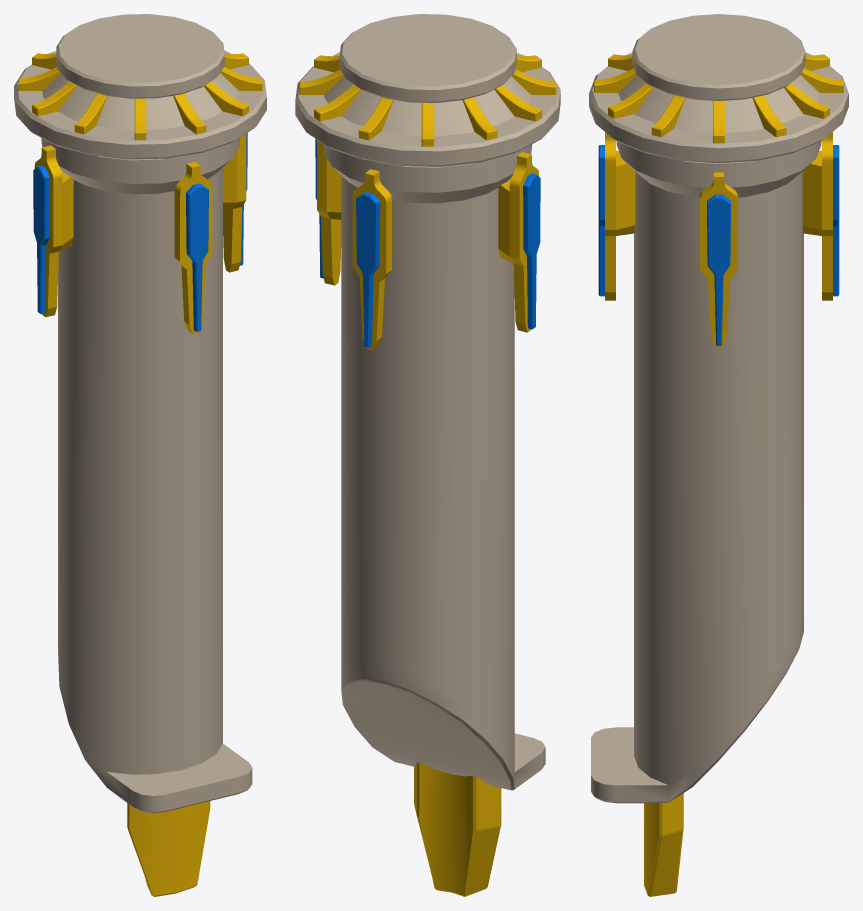
The model's file is mesh_pillar_01.fbx.
The picture shows the model from 3 angles, left to right: view 1: azimuth 30°, elevation 25°; view 2: azimuth 150°, elevation 25°; view 3: azimuth 270°, elevation 25°; orthographic projection. The views are drawn at different scales.
Visible parts, largest first — view 1: mesh_pillar_01; view 2: mesh_pillar_01; view 3: mesh_pillar_01.
Part boxes in pixels (bbox=[...]): mesh_pillar_01: bbox=[14, 14, 266, 896]; mesh_pillar_01: bbox=[295, 14, 560, 896]; mesh_pillar_01: bbox=[589, 14, 848, 896].
Size of the model in its own units: 0.0712 by 0.2533 by 0.0712.
